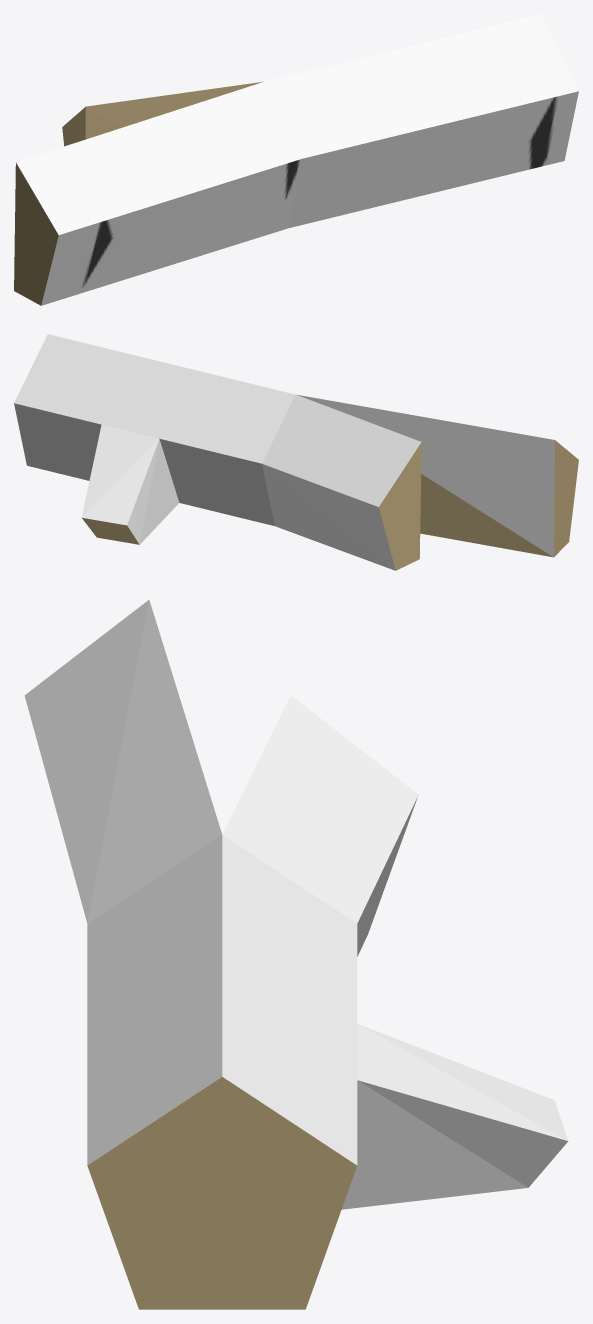
File: Birch_Firewood_Snow_04.fbx
3 views of the same model, one above another, from view 1: azimuth 30°, elevation 25°; view 2: azimuth 150°, elevation 25°; view 3: azimuth 270°, elevation 25° (orthographic). The views are drawn at different scales.
Visible parts, largest first — view 1: Birch_Firewood_Snow_04; view 2: Birch_Firewood_Snow_04; view 3: Birch_Firewood_Snow_04.
Part boxes in pixels (left/top/right/bottom): Birch_Firewood_Snow_04: left=14, top=14, right=578, bottom=305; Birch_Firewood_Snow_04: left=14, top=334, right=578, bottom=570; Birch_Firewood_Snow_04: left=24, top=600, right=568, bottom=1309.
Bounding box in the file's own units: 55.27 × 12.61 × 26.6.
